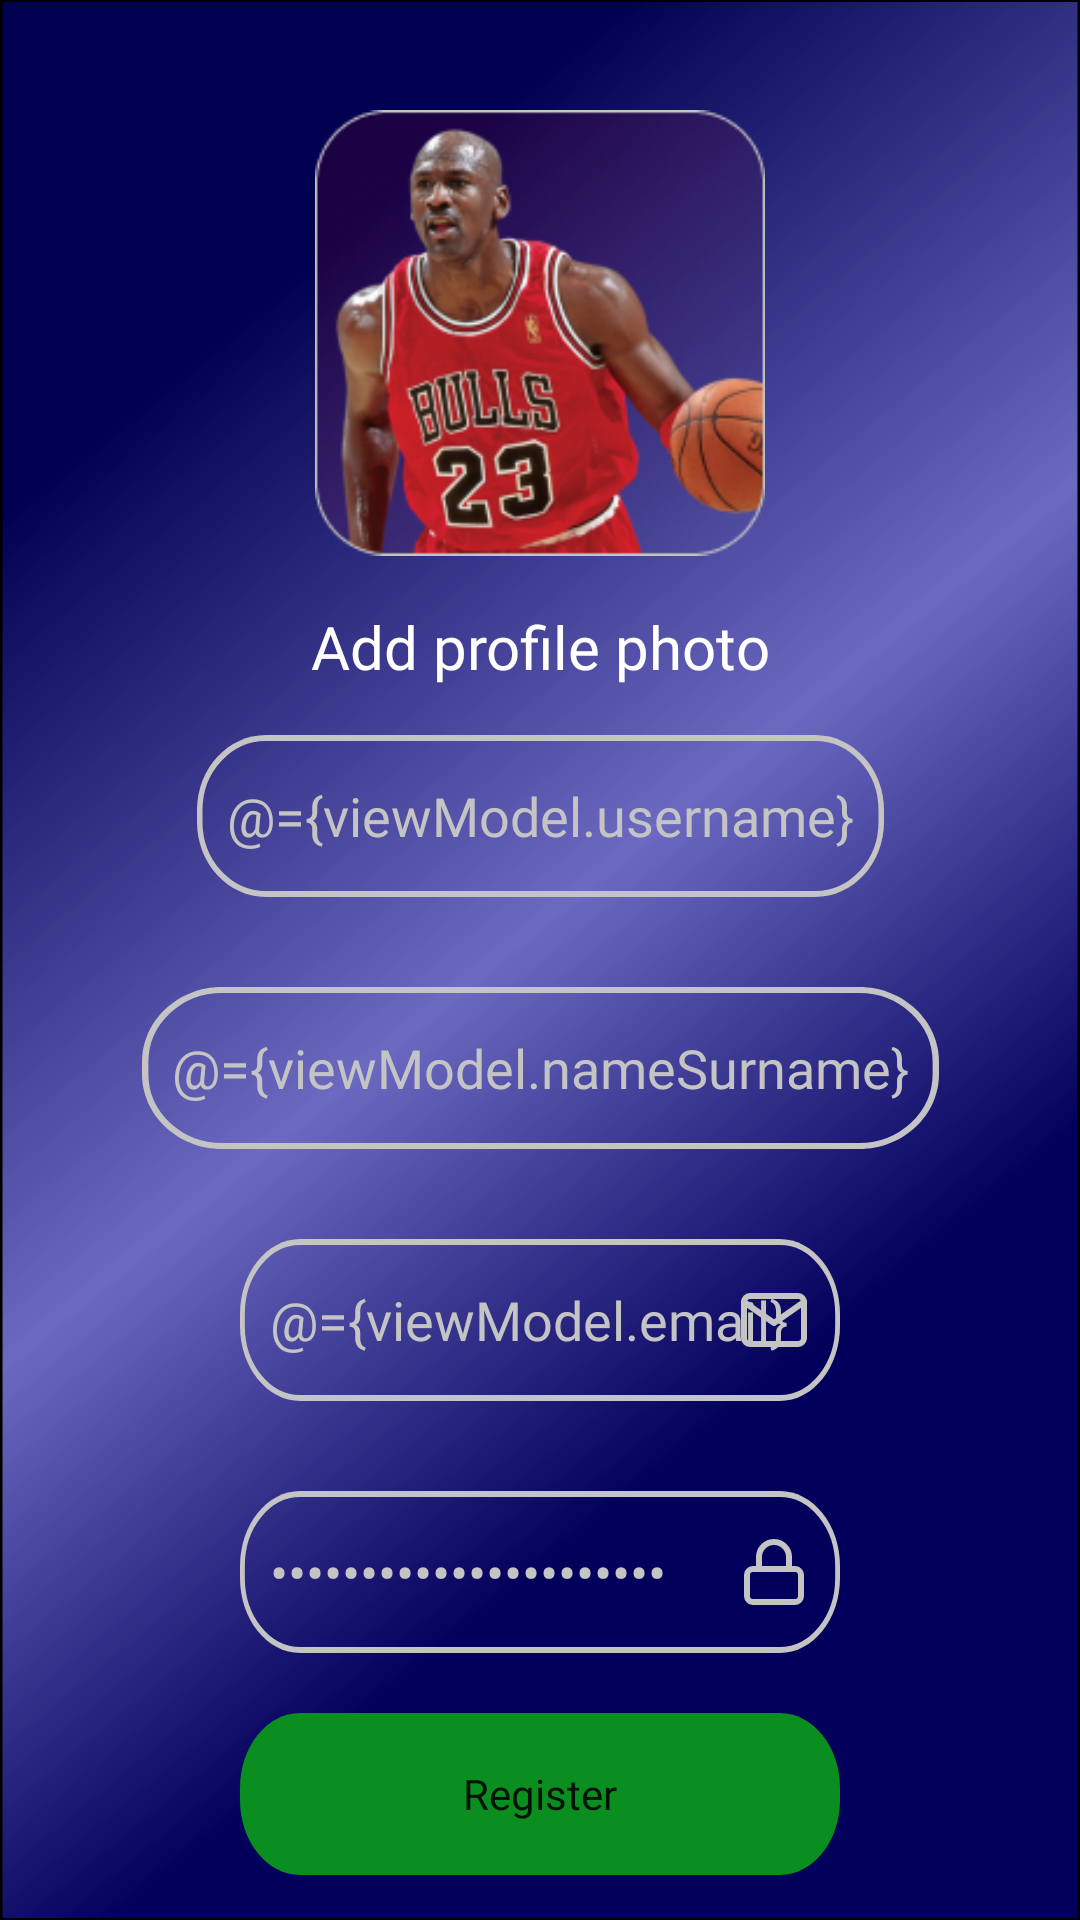

Named icons in this screenshot (1080px x 1920px) and their bounding boxes, [x1=x1, y1=y1, x2=x2, y2=y2]:
lock: [x1=744, y1=1539, x2=804, y2=1605]
